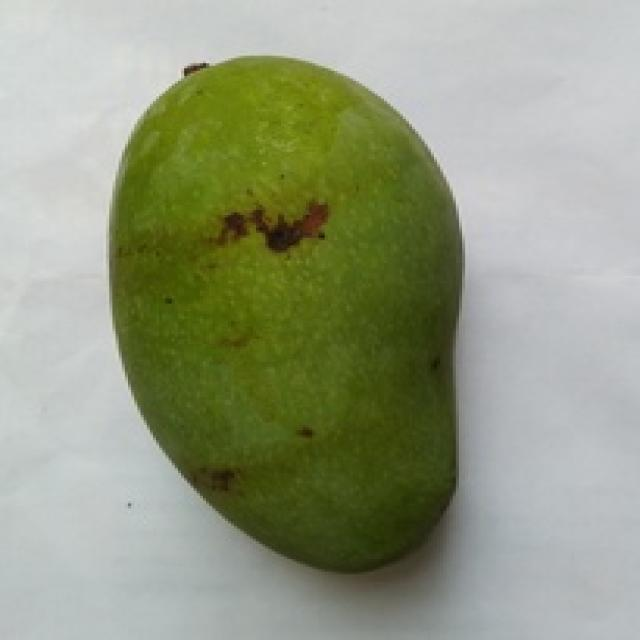Mango: (112, 58, 462, 569)
